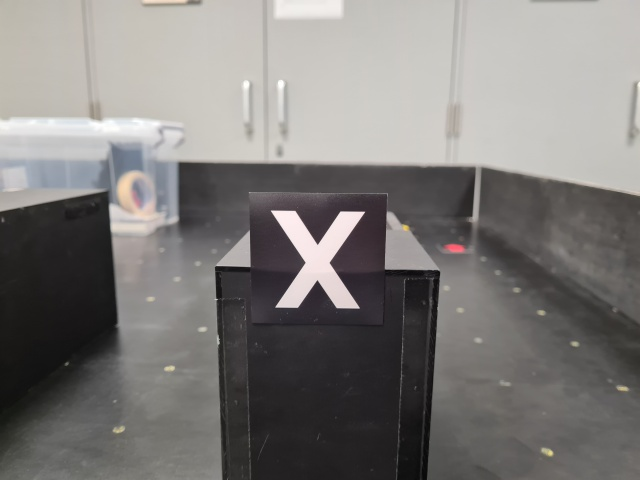alphabet_x: (248, 190, 388, 323)
